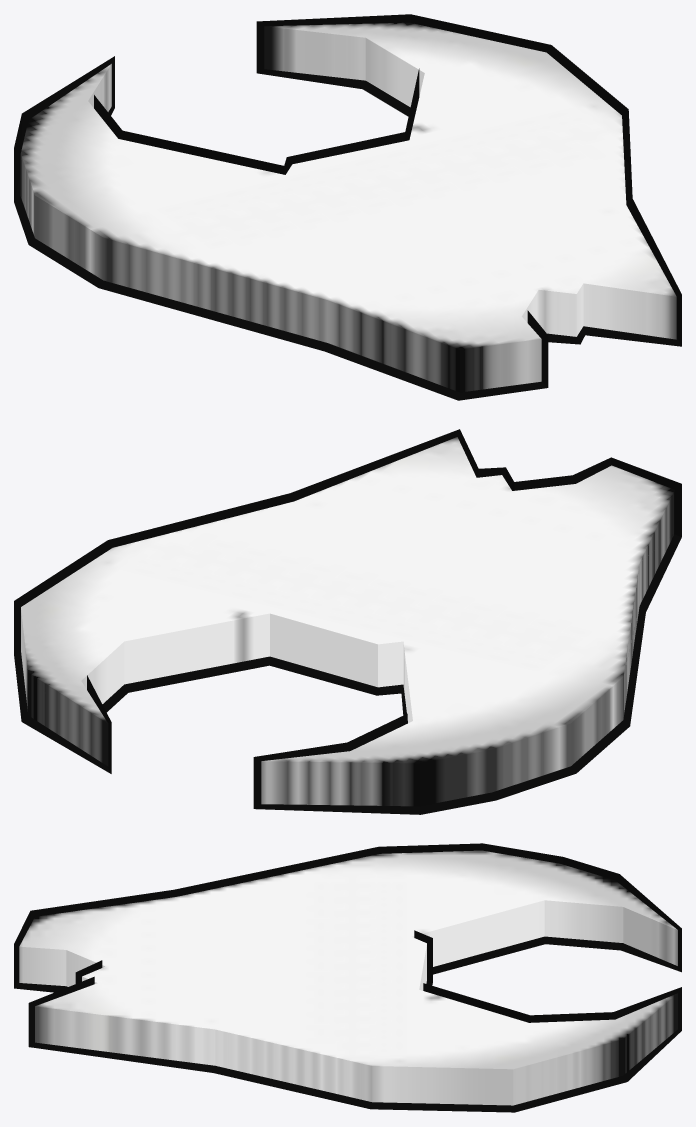
The model's file is Item_Apparel_BasicShirt_Things_Pawn_Humanlike_Apparel_ShirtBasic_ShirtBasic_Hulk.glb.
The picture shows the model from 3 angles, top to bottom: view 1: azimuth 30°, elevation 25°; view 2: azimuth 150°, elevation 25°; view 3: azimuth 270°, elevation 25°; orthographic projection. The views are drawn at different scales.
Parts seen in each view (by area): view 1: Body, Outline; view 2: Body, Outline; view 3: Body, Outline.
Boxes of the visible parts, x1,y1,x2,y2 form: Body: [20, 22, 676, 392]; Outline: [14, 14, 681, 400]; Body: [21, 437, 674, 806]; Outline: [14, 429, 681, 814]; Body: [19, 850, 677, 1105]; Outline: [14, 843, 681, 1112].
Bounding box in the file's own units: 0.5272 × 0.0543 × 0.6655.
2 materials, 1 textured.
